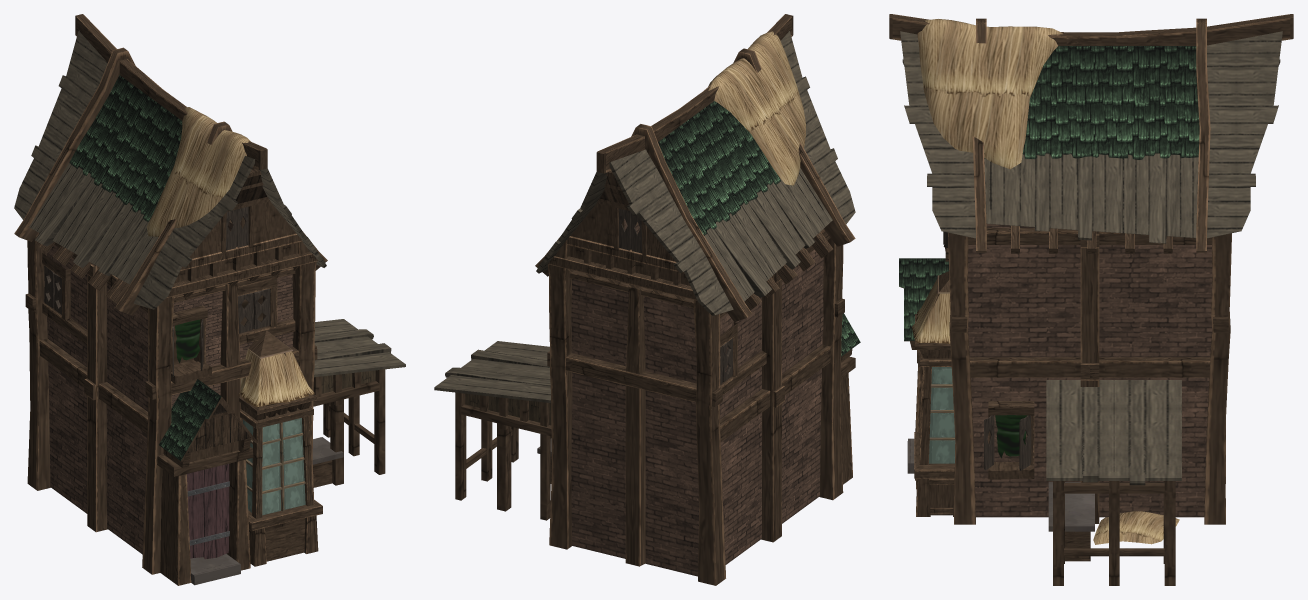
Rendered from House.FBX.
The picture shows the model from 3 angles, left to right: view 1: azimuth 30°, elevation 25°; view 2: azimuth 150°, elevation 25°; view 3: azimuth 270°, elevation 25°; orthographic projection. The views are drawn at different scales.
Parts seen in each view (by area): view 1: Box005; view 2: Box005; view 3: Box005.
Boxes of the visible parts, x1,y1,x2,y2 form: Box005: (14, 14, 405, 585); Box005: (434, 14, 860, 585); Box005: (889, 14, 1293, 585).
Size of the model in its own units: 347 by 436 by 343.
